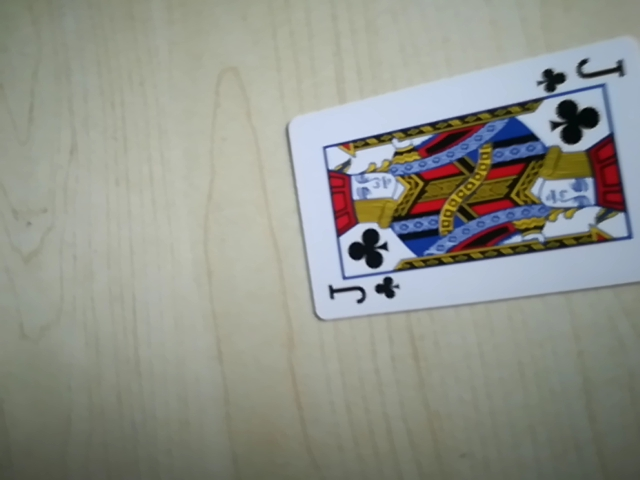mh j: (532, 54, 630, 96), (321, 269, 403, 317)
